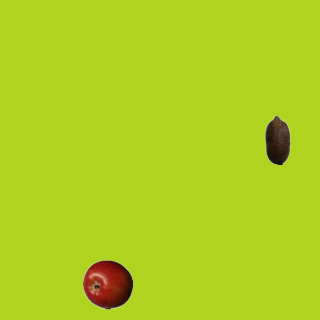Apple Braeburn: (82, 259, 132, 309)
Nut Pecan: (252, 114, 302, 164)
